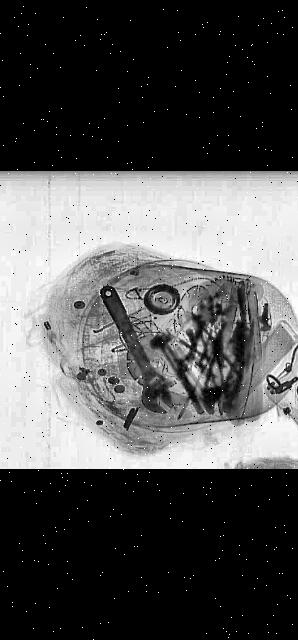Wrench: (81, 283, 187, 415)
